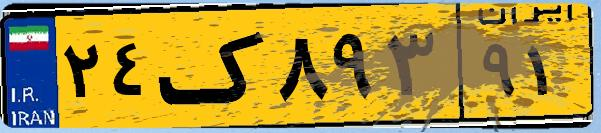1: (525, 38, 570, 115)
2: (57, 26, 110, 100)
3: (385, 28, 445, 110)
4: (110, 28, 158, 98)
8: (270, 28, 330, 110)
9: (330, 28, 385, 110), (475, 38, 525, 113)
ک: (158, 12, 270, 120)
